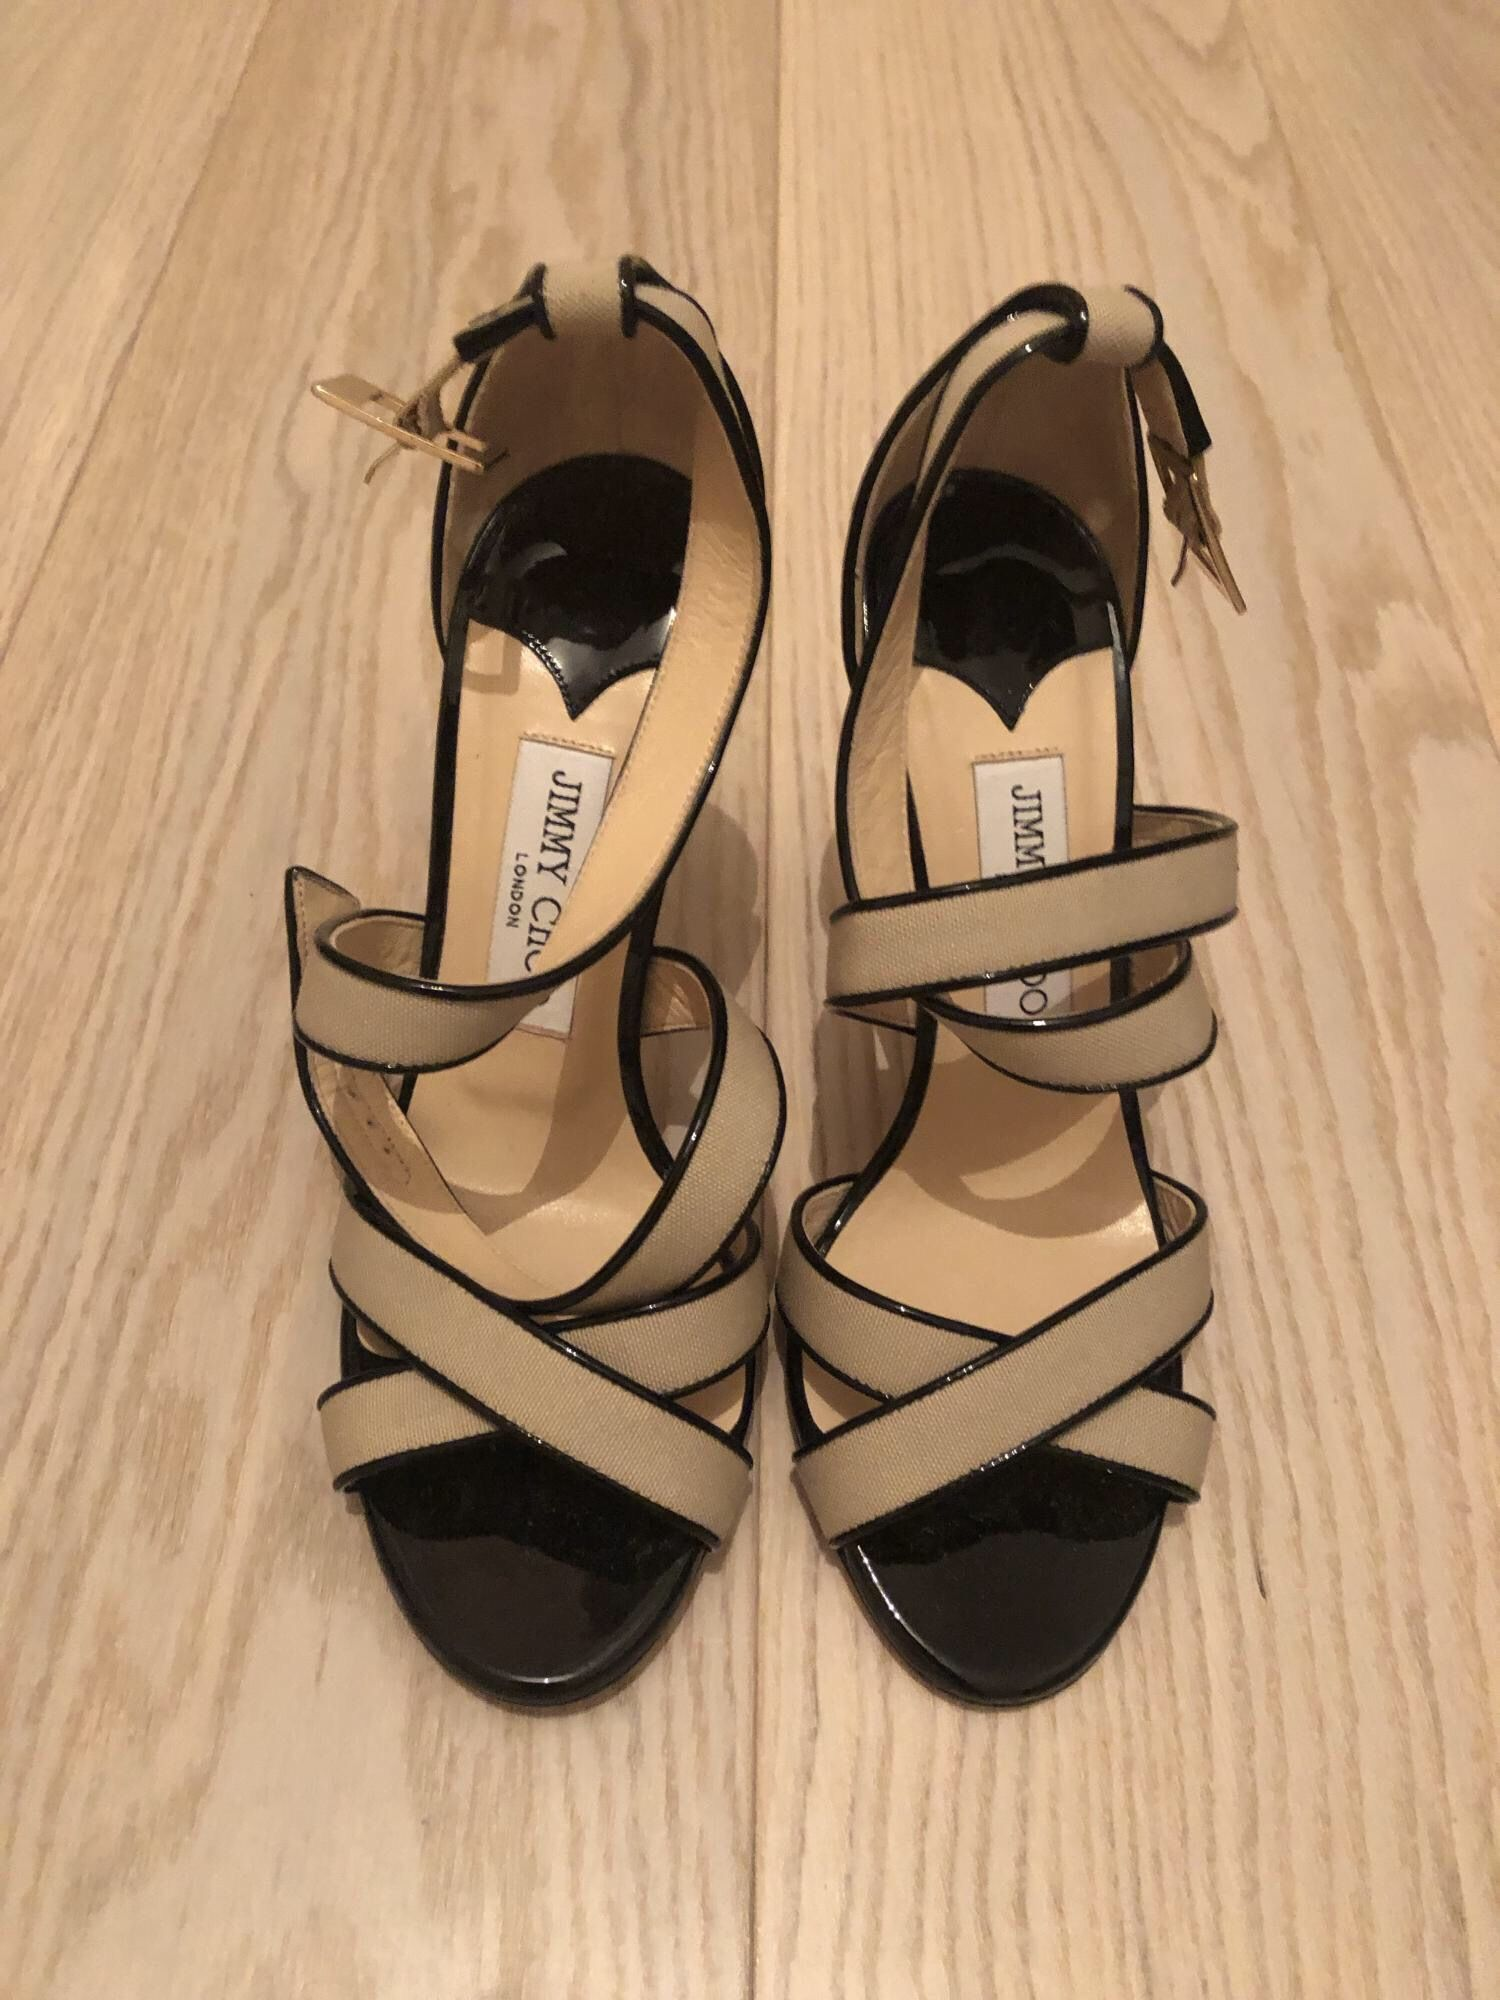clothes: (271, 254, 1227, 1734)
